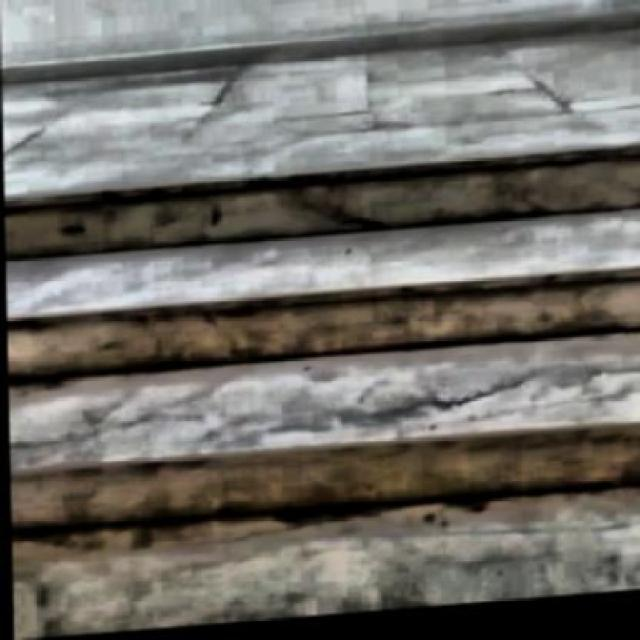stair: (3, 134, 639, 638)
